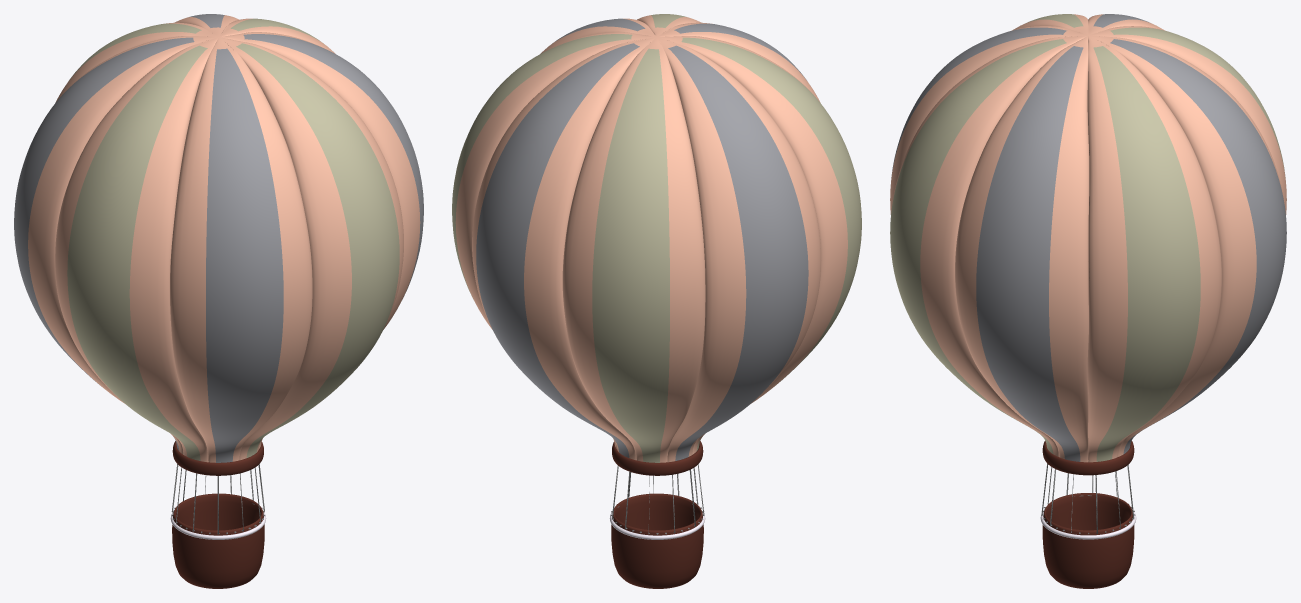
3 views of the same model, side by side, from view 1: azimuth 30°, elevation 25°; view 2: azimuth 150°, elevation 25°; view 3: azimuth 270°, elevation 25° (orthographic).
Parts seen in each view (by area): view 1: Sphere, Circle, Circle.001, Cycloid.001; view 2: Sphere, Circle, Circle.001, Cycloid.001; view 3: Sphere, Circle, Circle.001, Cycloid.001, BezierCircle.
Part boxes in pixels (x1=…): Sphere: x1=14, y1=14, x2=423, y2=462; Circle: x1=172, y1=493, x2=264, y2=588; Circle.001: x1=172, y1=441, x2=263, y2=475; Cycloid.001: x1=171, y1=464, x2=265, y2=534; Sphere: x1=452, y1=14, x2=861, y2=462; Circle: x1=611, y1=493, x2=703, y2=588; Circle.001: x1=612, y1=441, x2=703, y2=475; Cycloid.001: x1=610, y1=464, x2=704, y2=534; Sphere: x1=890, y1=14, x2=1286, y2=462; Circle: x1=1042, y1=493, x2=1134, y2=588; Circle.001: x1=1042, y1=441, x2=1134, y2=475; Cycloid.001: x1=1041, y1=463, x2=1135, y2=533; BezierCircle: x1=1040, y1=509, x2=1136, y2=539.
Bounding box in the file's own units: 777 × 1169 × 777.
